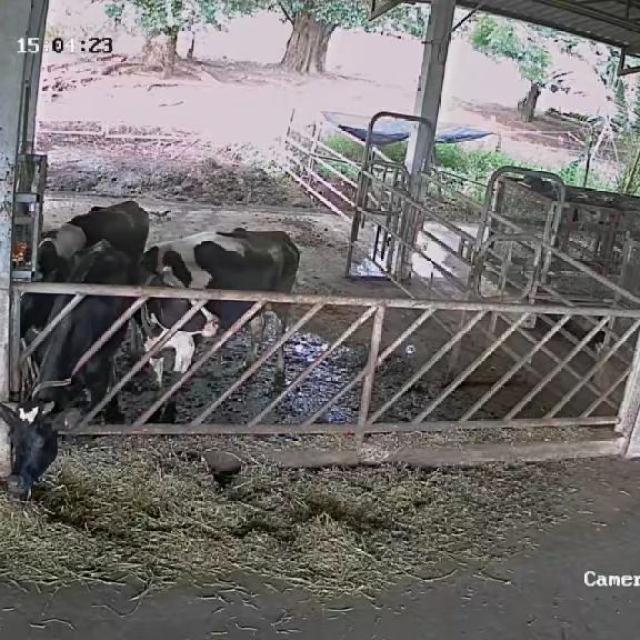feeding: (0, 240, 133, 496)
standing: (143, 227, 300, 419), (4, 200, 148, 367)
